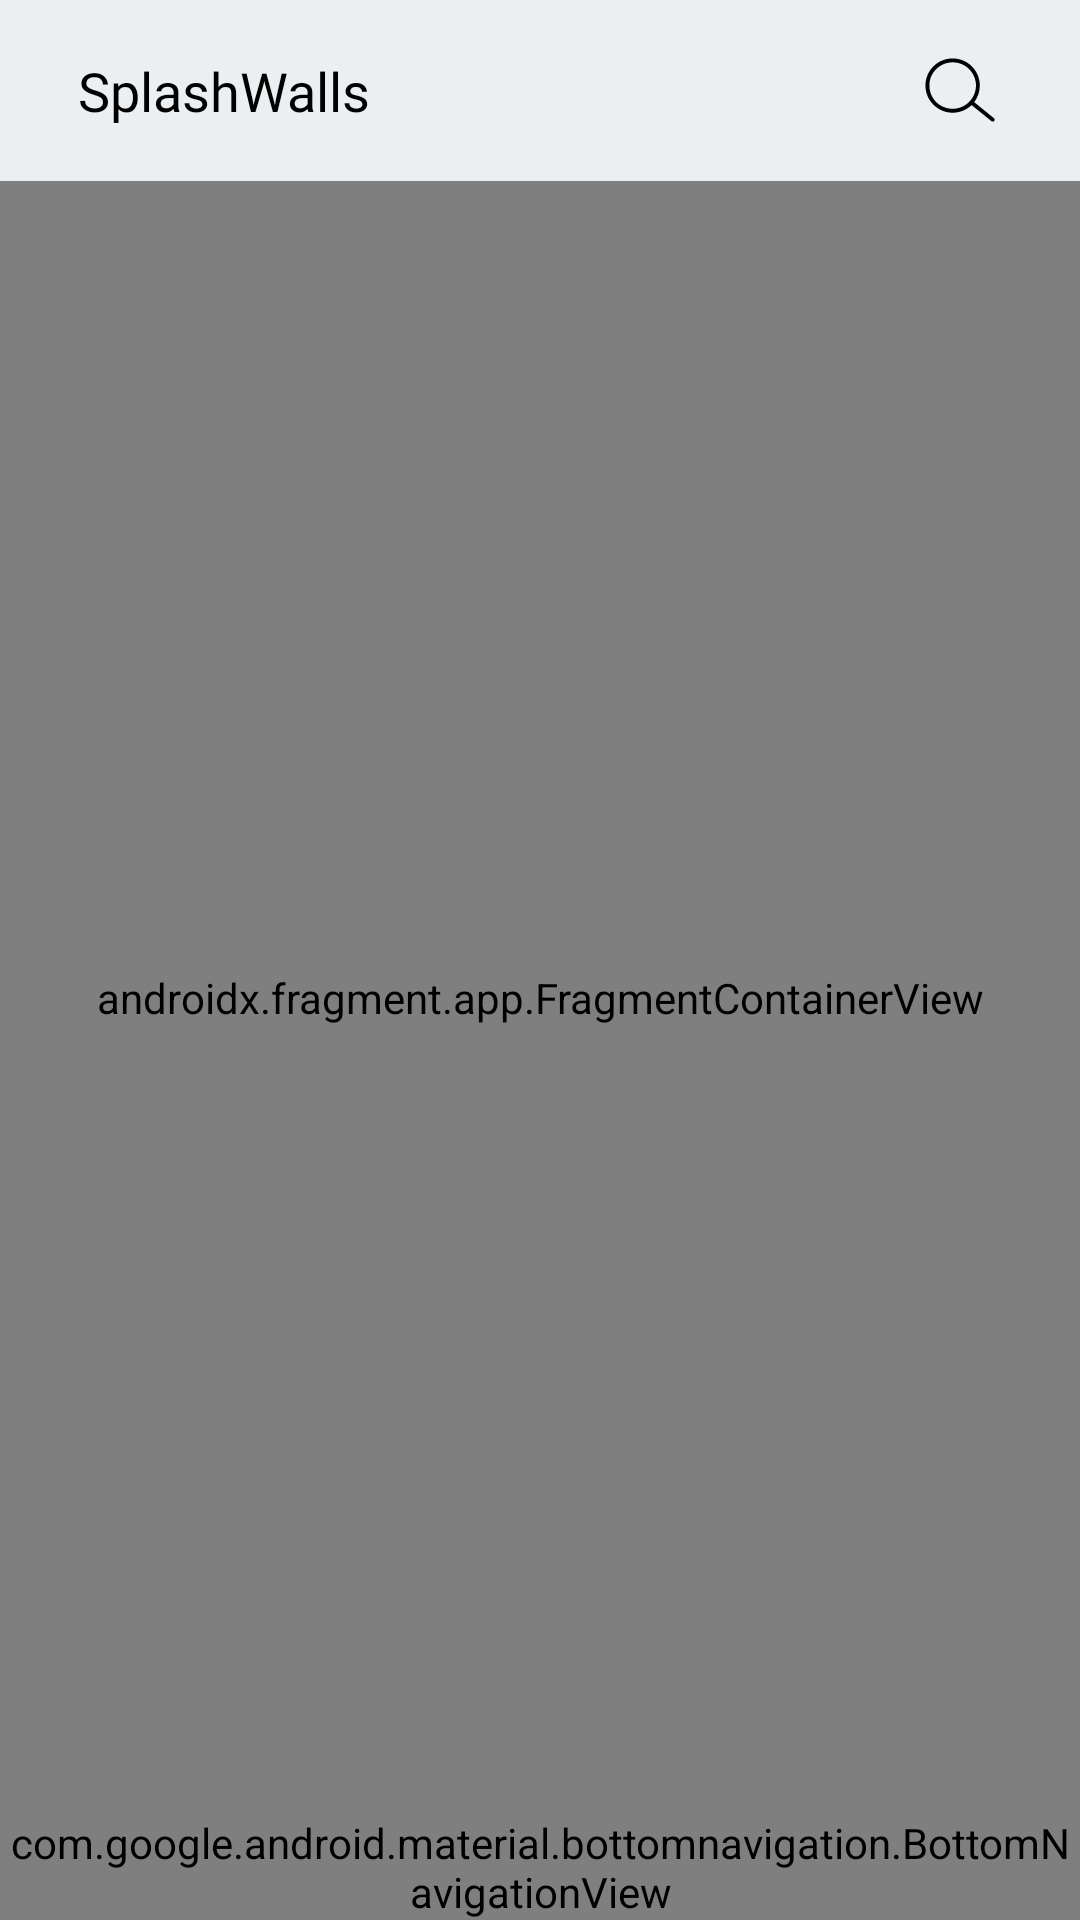

Icons on this 1080w x 1920h Android screen, each with the point to tap as (x,y):
Search Images: (960,90)
